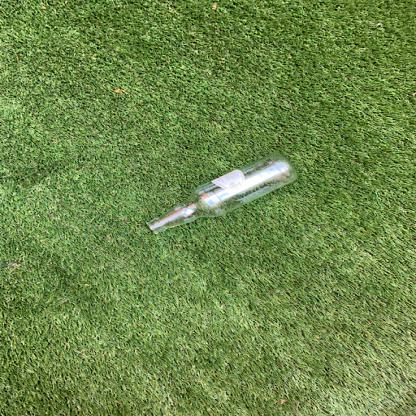trash: (140, 152, 301, 236)
